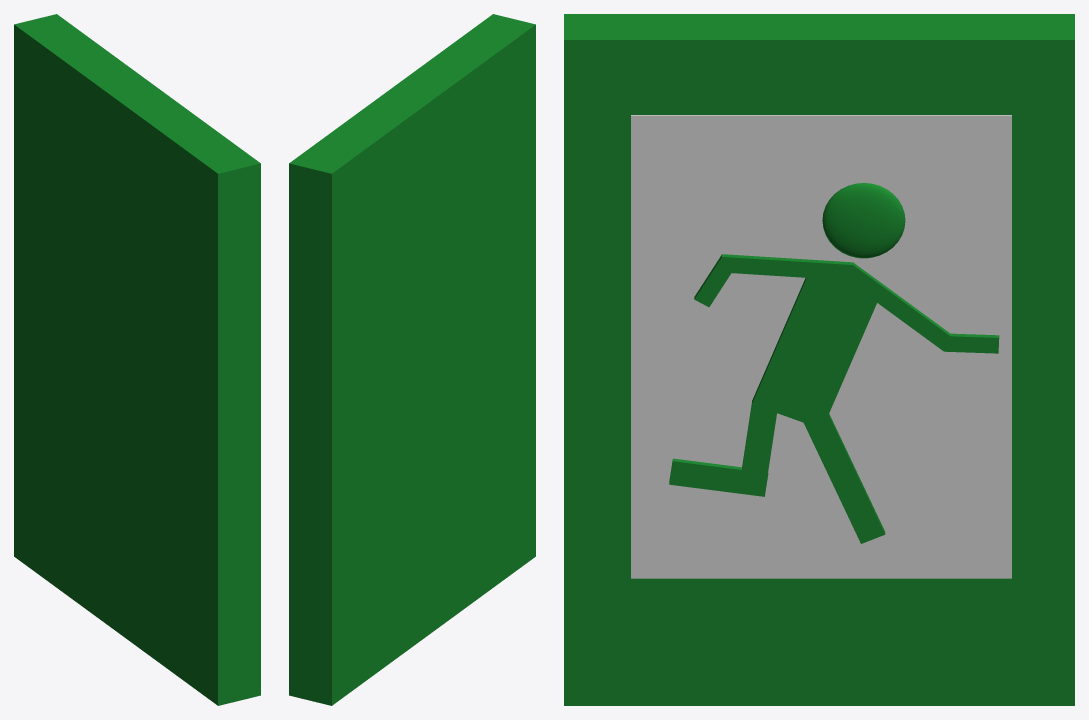
The model's file is emergency exit sign.fbx.
The picture shows the model from 3 angles, left to right: view 1: azimuth 30°, elevation 25°; view 2: azimuth 150°, elevation 25°; view 3: azimuth 270°, elevation 25°; orthographic projection. The views are drawn at different scales.
Visible parts, largest first — view 1: Cube; view 2: Cube; view 3: Cube.
Boxes of the visible parts, box(x1,y1,x2,y2) form: Cube: box(14, 14, 260, 705); Cube: box(289, 14, 535, 705); Cube: box(564, 14, 1074, 705).
Size of the model in its own units: 28.49 by 288 by 200.
